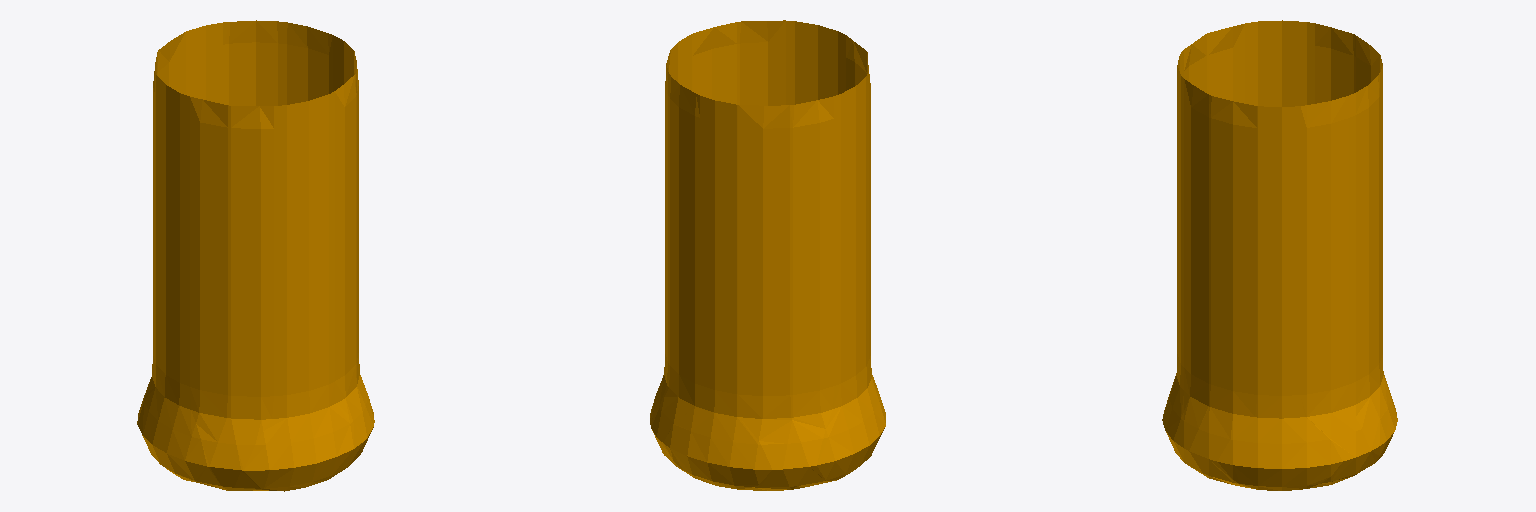
robot.urdf — cylinder_../../meshes/cylinders/cylinder_129.stl:
<?xml version="1.0" encoding="utf-8"?>  <robot name="cylinder_../../meshes/cylinders/cylinder_129.stl">   <link name="cylinder_../../meshes/cylinders/cylinder_129.stl">     <visual>       <geometry>         <mesh filename="../meshes/cylinders/cylinder_129.stl" scale="1 1 1"/>       </geometry>     </visual>     <collision>       <geometry>         <mesh filename="../meshes/cylinders/cylinder_129.stl" scale="1 1 1"/>       </geometry>     </collision>     <inertial>        <origin         xyz="0 0 0"         rpy="0 0 0" />       <mass value="0.12289627484538107"/>       <origin rpy="0 0 0" xyz="0 0 0"/>       <inertia ixx="4.1742344927658336e-05" ixy="-6.387012359747542e-09" ixz="-3.5332093680874947e-09" iyy="4.174084661761589e-05" iyz="2.522302745638799e-09" izz="2.7669679468969122e-05"/>     </inertial>   </link>  </robot>

--- Render facts (derived) ---
The picture shows the robot from 3 angles, left to right: view 1: azimuth 30°, elevation 25°; view 2: azimuth 150°, elevation 25°; view 3: azimuth 270°, elevation 25°; orthographic projection.
Model cylinder_../../meshes/cylinders/cylinder_129.stl with 1 links and 0 joints (none), rooted at cylinder_../../meshes/cylinders/cylinder_129.stl, posed every joint at zero.
Visible links, largest first — view 1: cylinder_../../meshes/cylinders/cylinder_129.stl; view 2: cylinder_../../meshes/cylinders/cylinder_129.stl; view 3: cylinder_../../meshes/cylinders/cylinder_129.stl.
Boxes of the visible links, x1,y1,x2,y2 form: cylinder_../../meshes/cylinders/cylinder_129.stl: [137, 20, 374, 491]; cylinder_../../meshes/cylinders/cylinder_129.stl: [650, 20, 885, 490]; cylinder_../../meshes/cylinders/cylinder_129.stl: [1162, 20, 1397, 490].
Bounding box of the posed robot: 0.0481 × 0.0481 × 0.0876 m (x, y, z).
1 mesh visuals loaded from 1 distinct referenced files (1 binary STL).